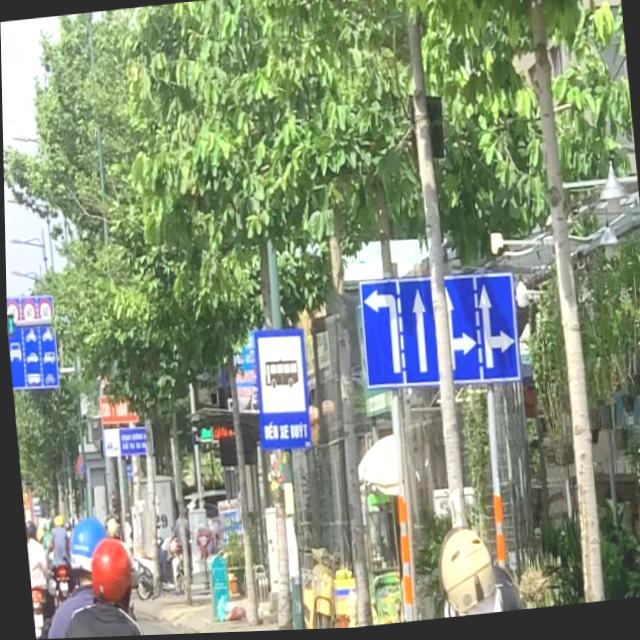Ben xe buyt: (247, 324, 314, 460)
Toc do toi da cho phep: (19, 299, 36, 326), (36, 298, 52, 325), (5, 300, 19, 327)
